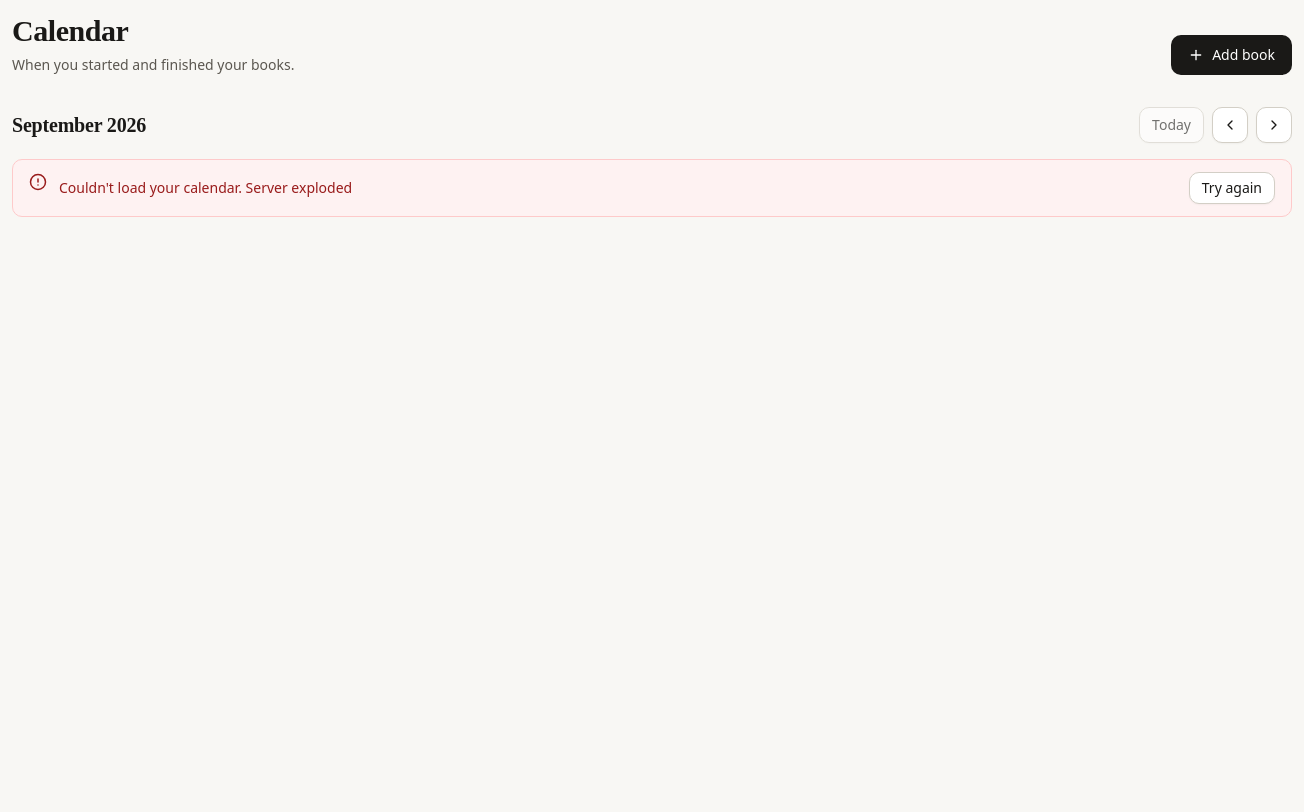
Test: CalendarPage › offers a retry when the calendar fails to load
Check: the text "Couldn't load your calendar. Server exploded" is shown, box [59,177,352,198]
Click the button "Try again": (1232, 188) [1189,172,1275,204]
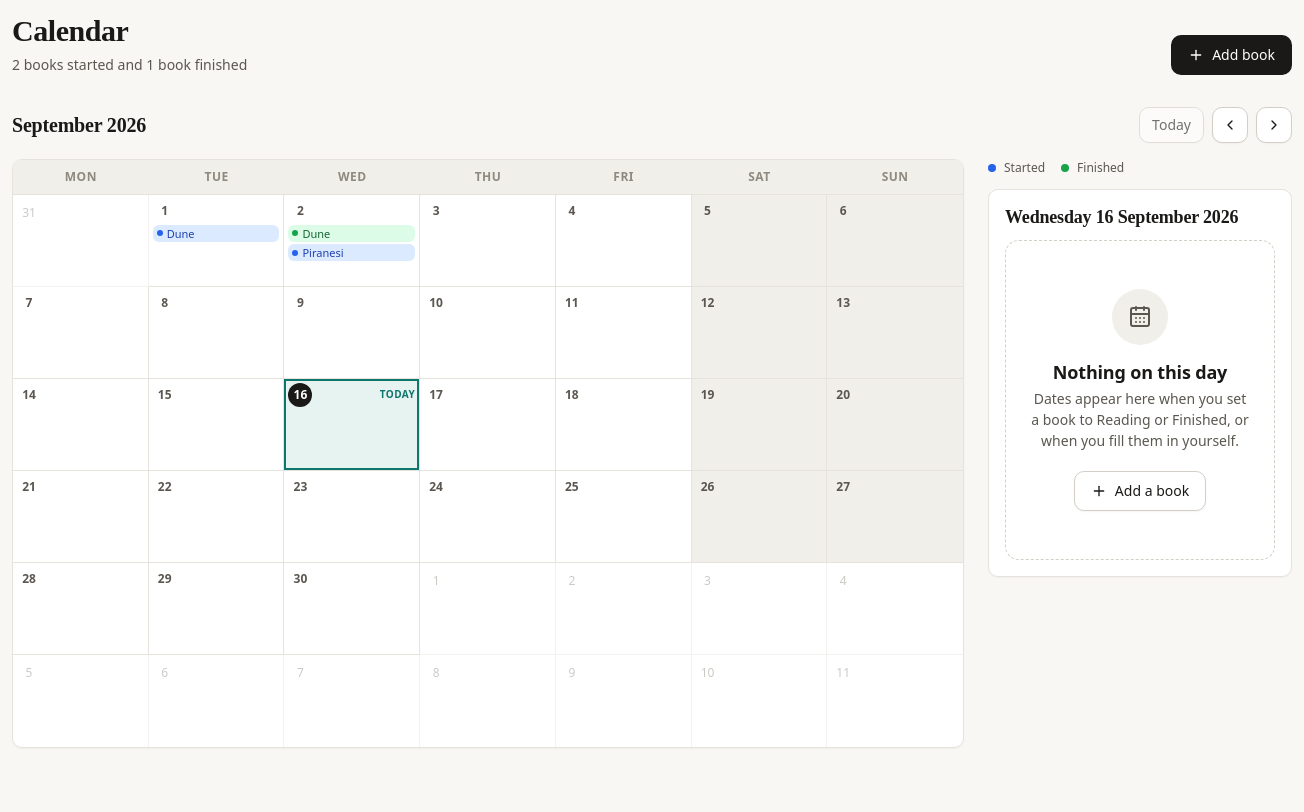
Check: the table is shown, box [13,160,963,746]
